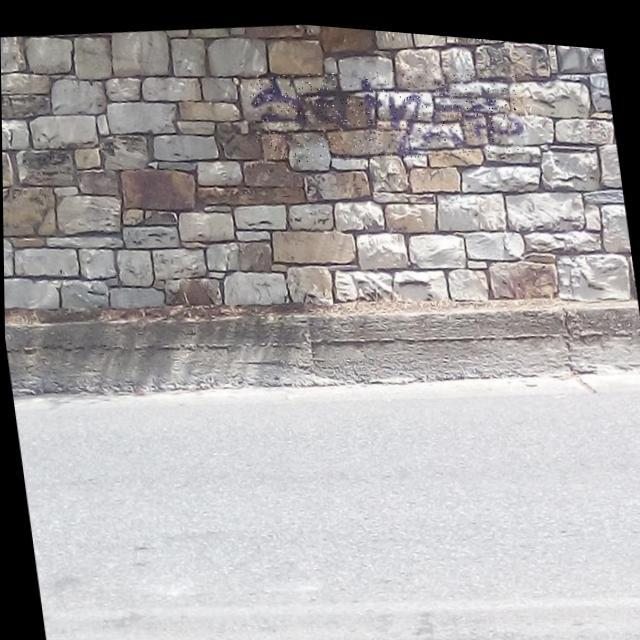-: (246, 38, 526, 176)
